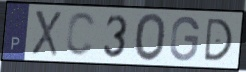3: (102, 13, 130, 60)
C: (64, 10, 98, 59)
D: (202, 17, 235, 63)
G: (168, 15, 201, 63)
O: (134, 11, 168, 63)
X: (30, 8, 63, 58)
